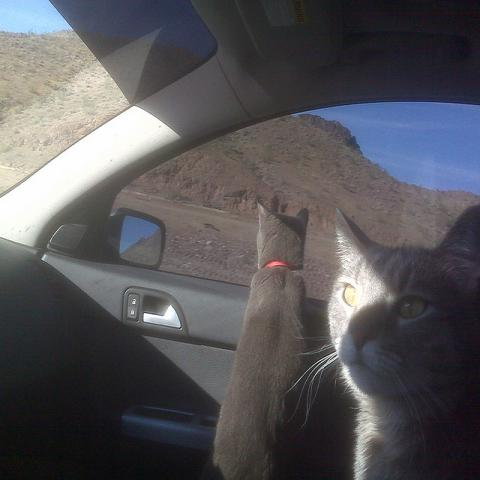car: (3, 0, 479, 473)
